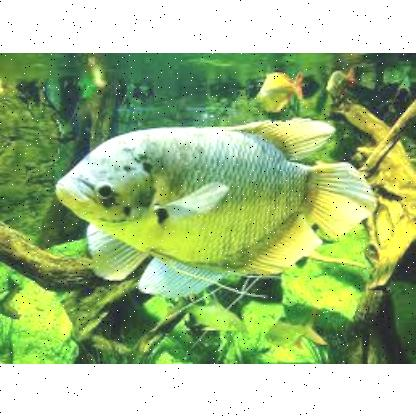gurame: (57, 119, 369, 276)
